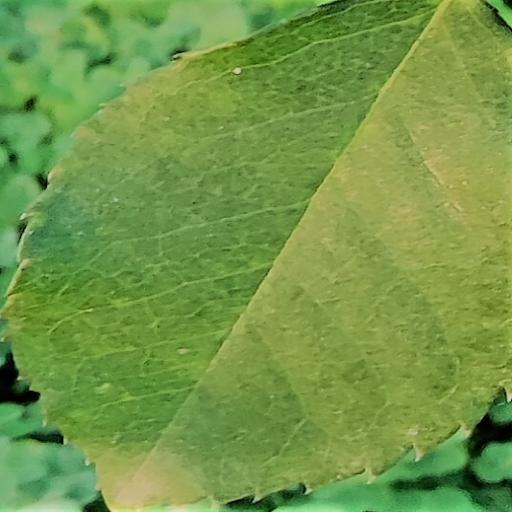healthy_leaf: (3, 0, 511, 511)
